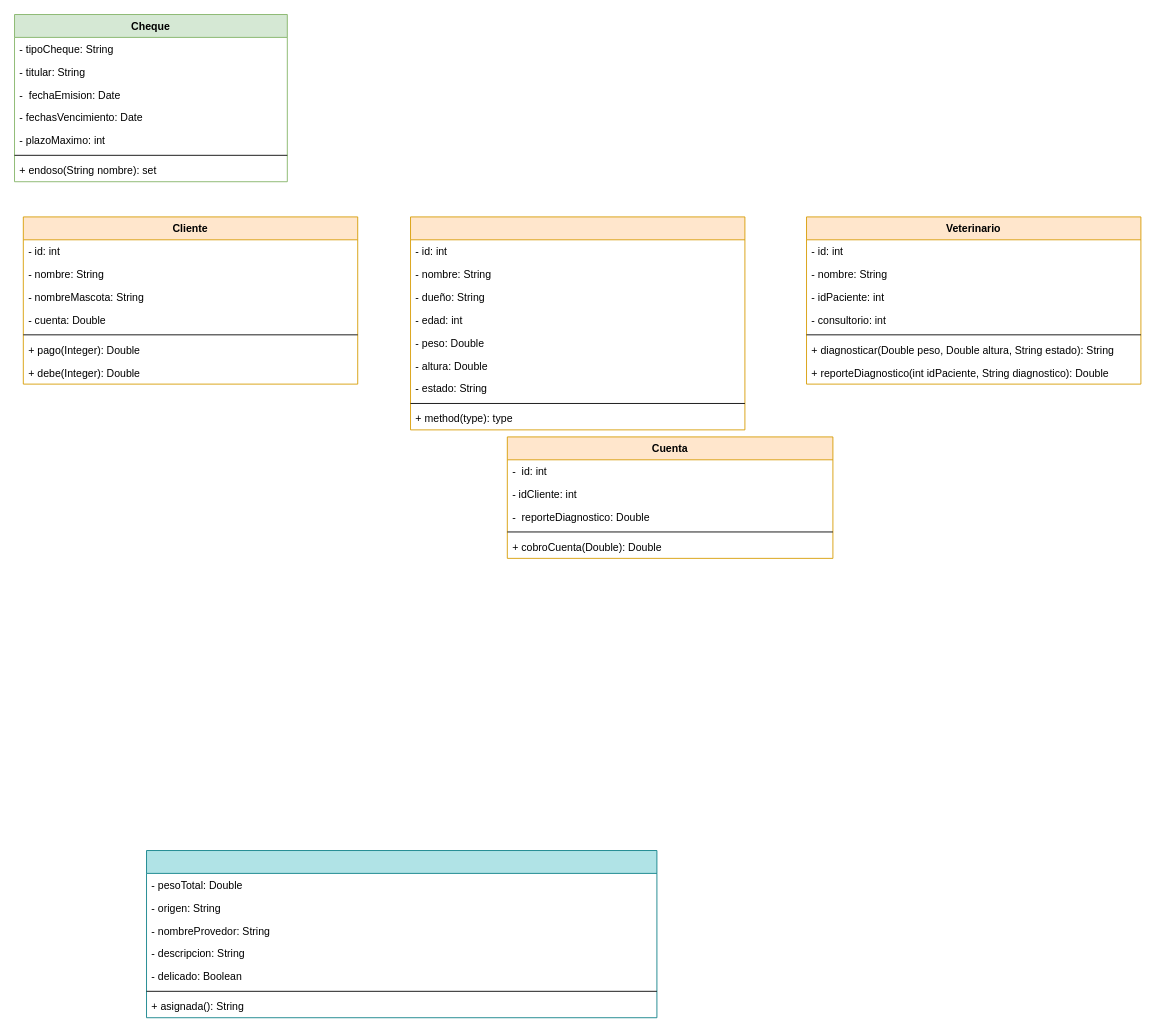
Some shapes in this 1155 by 1032 pixel diagram are drawn without their labels. The box of each missing label's shape, as (x1, y1, x2, y2) in pixels:
CajaProviciones: (146, 850, 657, 1018)
Mascota: (410, 216, 745, 430)
